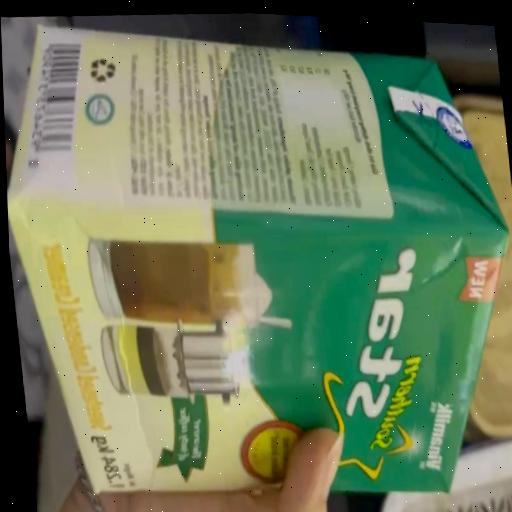ly_giay: (7, 29, 508, 495)
